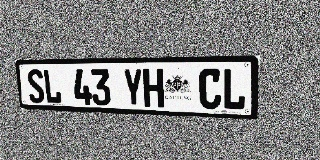3: (91, 69, 111, 106)
4: (72, 69, 92, 105)
C: (199, 68, 222, 109)
H: (143, 69, 164, 107)
L: (222, 68, 247, 110), (42, 69, 62, 104)
S: (26, 69, 45, 103)
Y: (122, 69, 143, 107)
